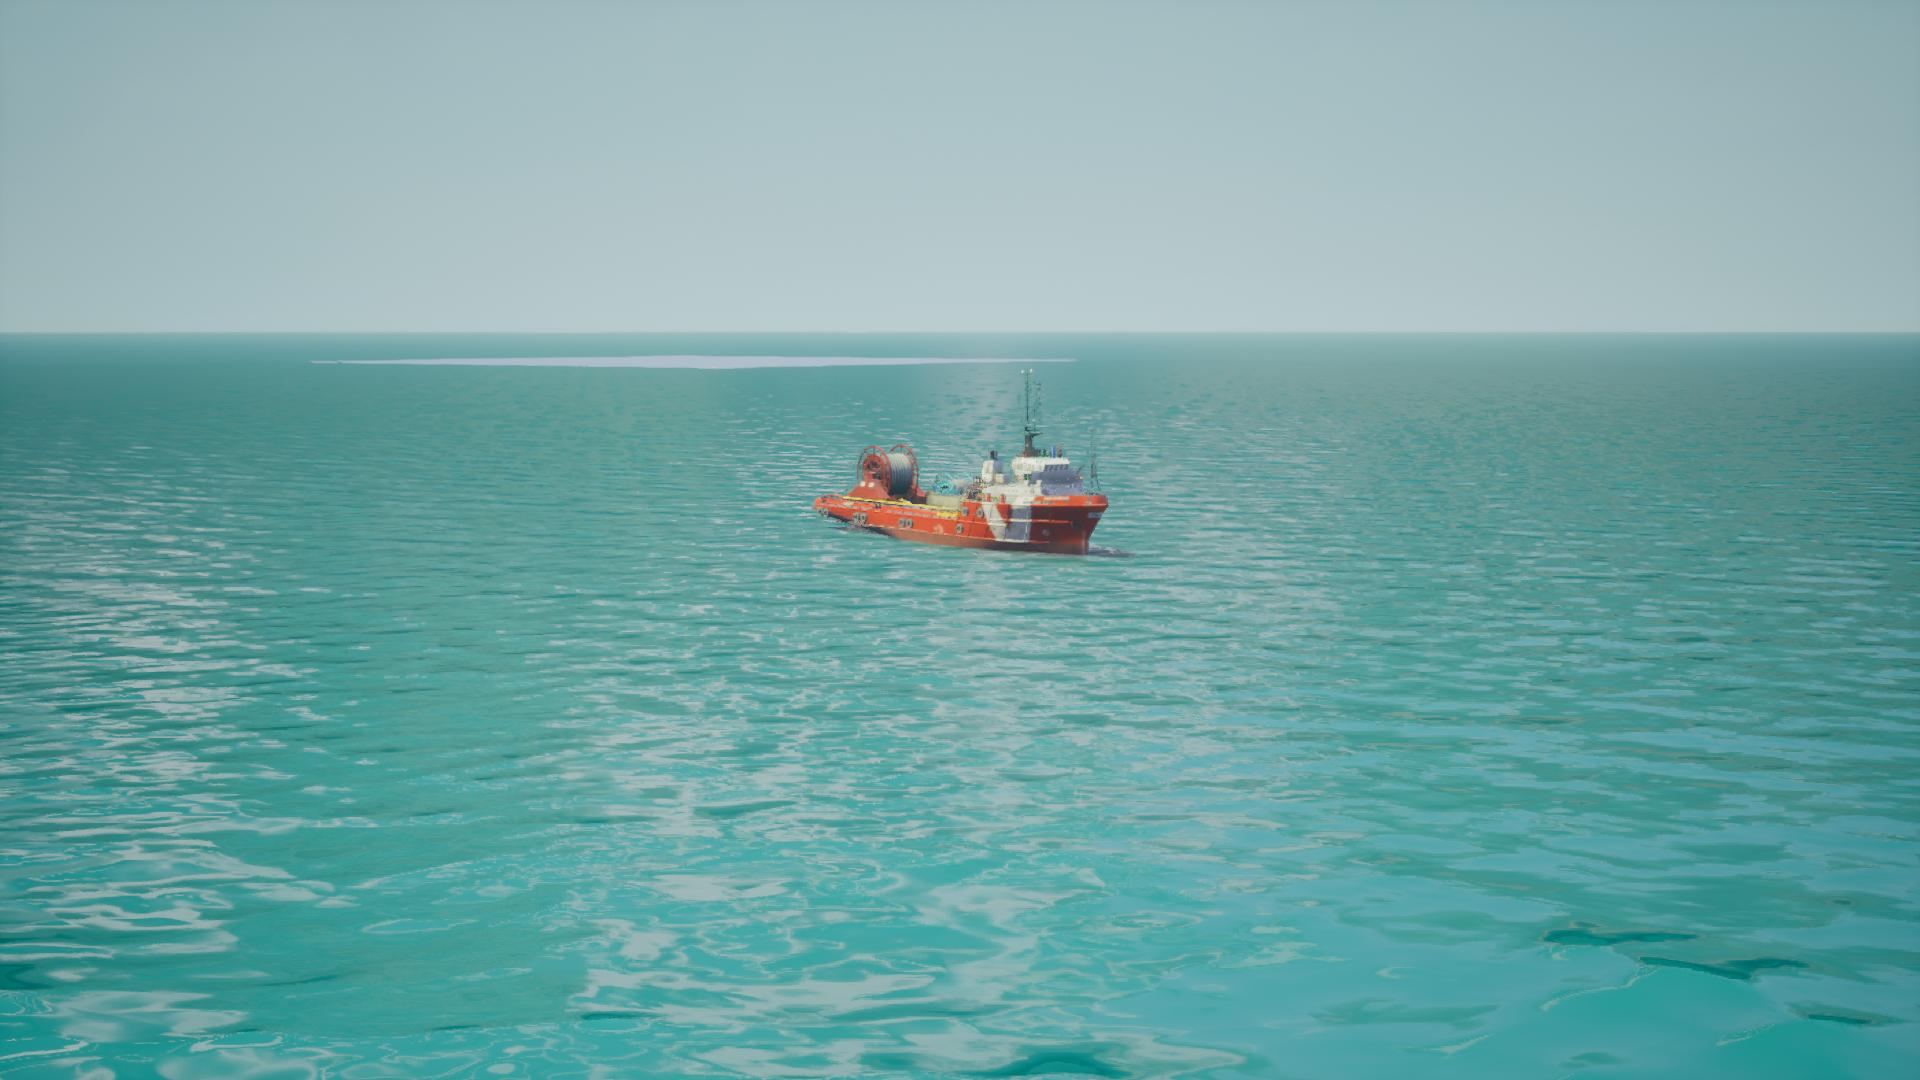Tug Boat: (815, 368, 1121, 562)
